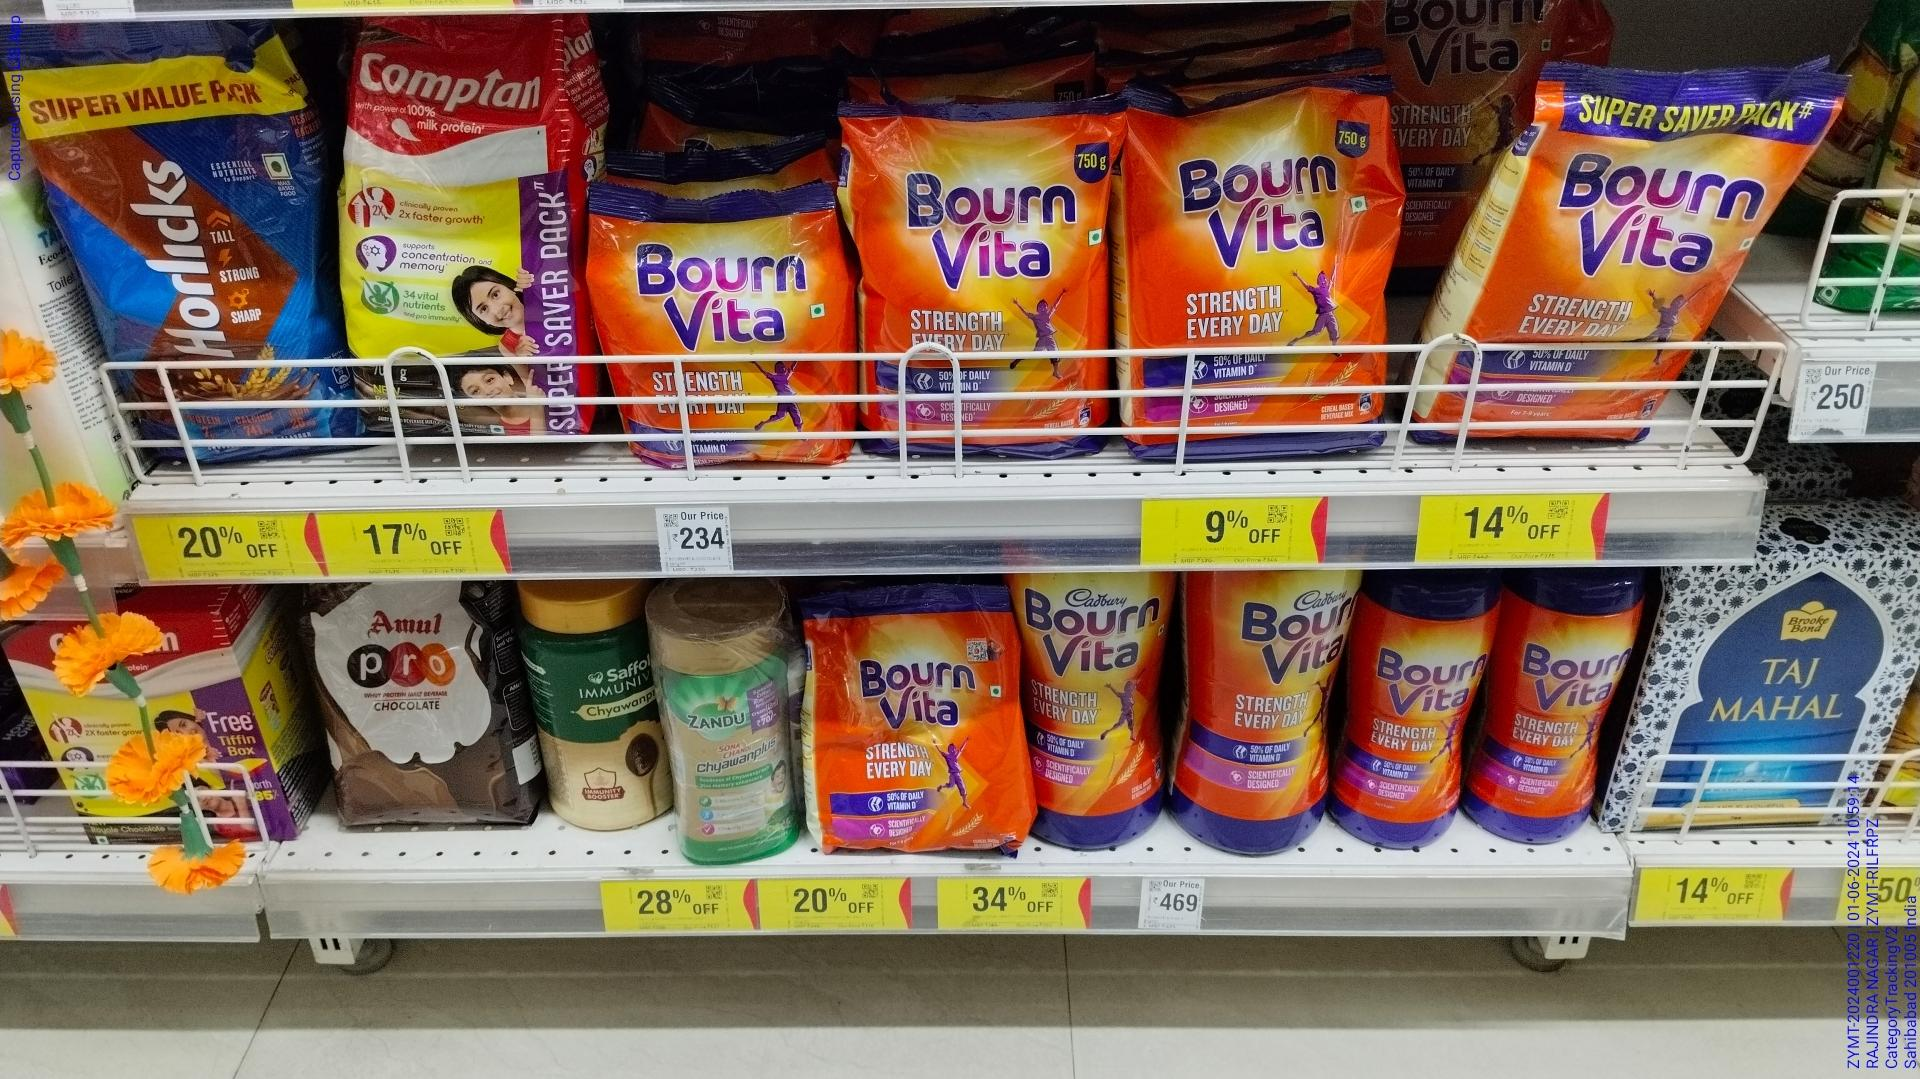BOURN_VITA_1_KG_JAR: (1180, 565, 1350, 860), (1027, 570, 1162, 851)
BOURN_VITA_1_KG_POUCH: (1490, 61, 1750, 450)
BOURN_VITA_500_G_JAR: (1358, 582, 1487, 855), (1494, 575, 1615, 847)
BOURN_VITA_500_G_POUCH: (604, 195, 845, 464), (818, 595, 1014, 867)
BOURN_VITA_750_G_POUCH: (1134, 94, 1393, 467), (858, 109, 1110, 450)
COMPLAN_RC_POUCH_700_GMS_12: (345, 12, 572, 455)
HORLICK_CHOCOLATE_750_G_POUCH: (66, 40, 298, 472)
